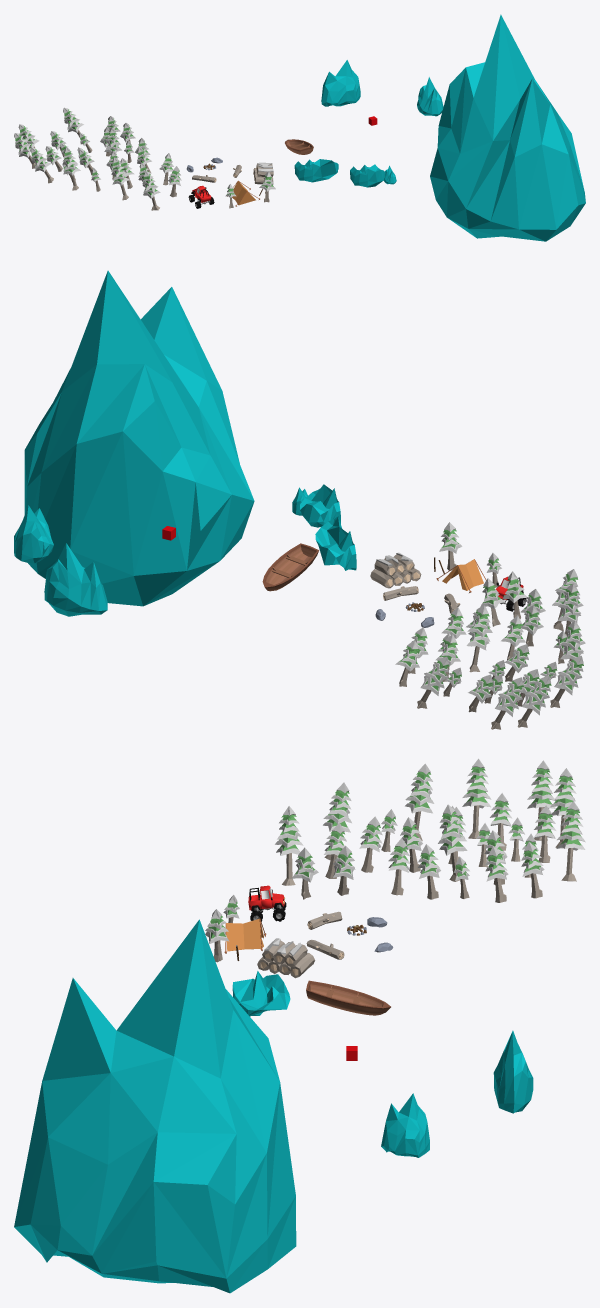
The model's file is LowerLevel.glb.
3 views of the same model, one above another, from view 1: azimuth 30°, elevation 25°; view 2: azimuth 150°, elevation 25°; view 3: azimuth 270°, elevation 25° (orthographic). The views are drawn at different scales.
Parts seen in each view (by area): view 1: 1222 Iceberg, 1222 Iceberg.005, 1222 Iceberg.003, 1222 Iceberg.004, 1222 Iceberg.002, pine_tall_snowy_01.008, pine_tall_snowy_01.007, pine_tall_snowy_01.011, Tent_Cube.001, pine_tall_snowy_01.010, Boat-ver1, firewoods_01 (+2 smaller); view 2: 1222 Iceberg, 1222 Iceberg.005, 1222 Iceberg.004, 1222 Iceberg.003, Boat-ver1, firewoods_01, 1222 Iceberg.002, pine_tall_snowy_01.004, pine_tall_snowy_01.009, pine_tall_snowy_01.010, pine_tall_snowy_01.006, pine_tall_snowy_01.005 (+3 smaller); view 3: 1222 Iceberg, 1222 Iceberg.004, 1222 Iceberg.005, 1222 Iceberg.003, Boat-ver1, firewoods_01, pine_tall_snowy_01.005, Tent_Cube.001, pine_tall_snowy_01.011, pine_tall_snowy_01.010, pine_tall_snowy_01.004, pine_tall_snowy_01.007 (+10 smaller).
Part boxes in pixels (box(x1,y1,x2,y2)): 1222 Iceberg: box(430, 14, 585, 241); 1222 Iceberg.005: box(321, 60, 360, 106); 1222 Iceberg.003: box(294, 159, 338, 182); 1222 Iceberg.004: box(417, 77, 443, 116); 1222 Iceberg.002: box(350, 164, 385, 187); pine_tall_snowy_01.008: box(111, 157, 129, 200); pine_tall_snowy_01.007: box(62, 147, 80, 190); pine_tall_snowy_01.011: box(142, 171, 160, 210); Tent_Cube.001: box(227, 180, 259, 206); pine_tall_snowy_01.010: box(30, 147, 53, 183); Boat-ver1: box(285, 139, 313, 154); firewoods_01: box(253, 162, 273, 184); 1222 Iceberg: box(24, 270, 254, 606); 1222 Iceberg.005: box(44, 543, 107, 616); 1222 Iceberg.004: box(14, 505, 53, 563); 1222 Iceberg.003: box(315, 516, 356, 570); Boat-ver1: box(262, 543, 318, 591); firewoods_01: box(370, 552, 421, 588); 1222 Iceberg.002: box(300, 484, 340, 527); pine_tall_snowy_01.004: box(466, 605, 492, 672); pine_tall_snowy_01.009: box(517, 675, 551, 727); pine_tall_snowy_01.010: box(550, 655, 583, 707); pine_tall_snowy_01.006: box(491, 677, 523, 729); pine_tall_snowy_01.005: box(417, 656, 449, 708); 1222 Iceberg: box(14, 919, 296, 1293); 1222 Iceberg.004: box(381, 1093, 429, 1157); 1222 Iceberg.005: box(493, 1030, 533, 1113); 1222 Iceberg.003: box(232, 971, 290, 1016); Boat-ver1: box(306, 980, 390, 1015); firewoods_01: box(257, 938, 315, 978); pine_tall_snowy_01.005: box(556, 801, 585, 881); Tent_Cube.001: box(224, 918, 266, 953); pine_tall_snowy_01.011: box(275, 806, 303, 885); pine_tall_snowy_01.010: box(462, 758, 491, 838); pine_tall_snowy_01.004: box(438, 804, 467, 881); pine_tall_snowy_01.007: box(405, 763, 434, 840).
Size of the model in its own units: 158 by 71.81 by 101.
19 materials, 1 textured.
